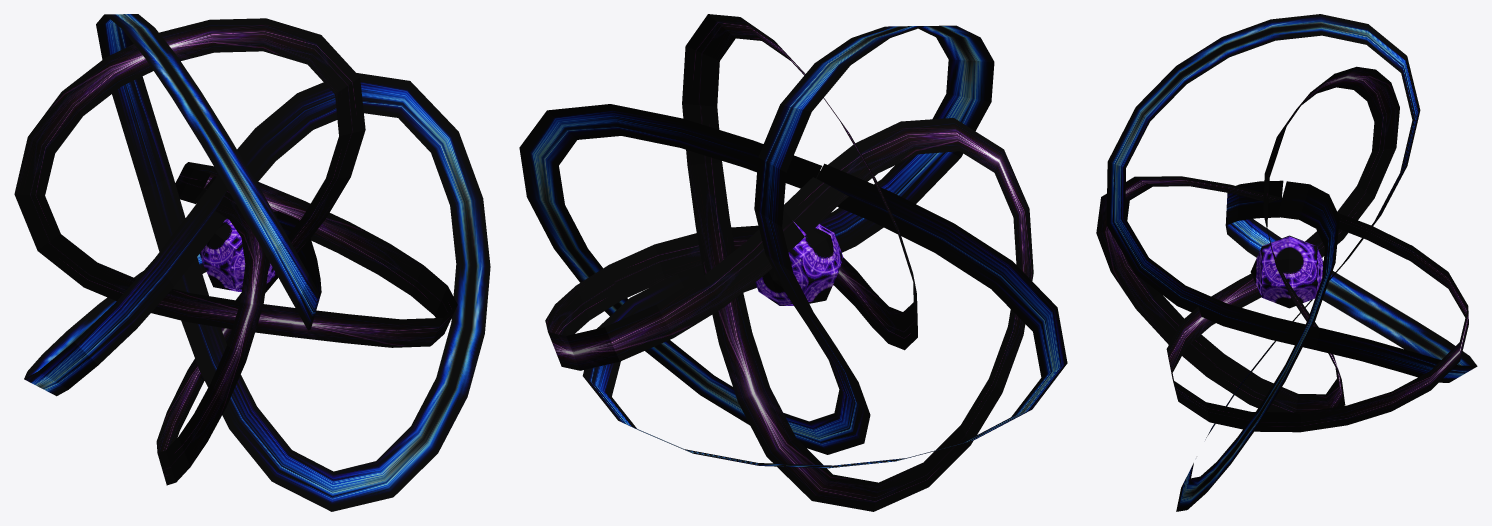
The model's file is hd_zhanbo_xinan.obj.
The picture shows the model from 3 angles, left to right: view 1: azimuth 30°, elevation 25°; view 2: azimuth 150°, elevation 25°; view 3: azimuth 270°, elevation 25°; orthographic projection. The views are drawn at different scales.
Visible parts, largest first — view 1: Plane02, Plane01, Sphere01; view 2: Plane02, Plane01, Sphere01; view 3: Plane02, Plane01, Sphere01.
Part boxes in pixels (bbox=[...]): Plane02: bbox=[24, 14, 490, 511]; Plane01: bbox=[14, 18, 457, 485]; Sphere01: bbox=[199, 218, 275, 291]; Plane02: bbox=[519, 25, 1067, 468]; Plane01: bbox=[545, 14, 1033, 511]; Sphere01: bbox=[755, 221, 843, 305]; Plane02: bbox=[1106, 14, 1477, 511]; Plane01: bbox=[1096, 66, 1468, 432]; Sphere01: bbox=[1250, 235, 1323, 308].
Size of the model in its own units: 37.34 by 35.4 by 29.46.
3 materials, 3 textured.
